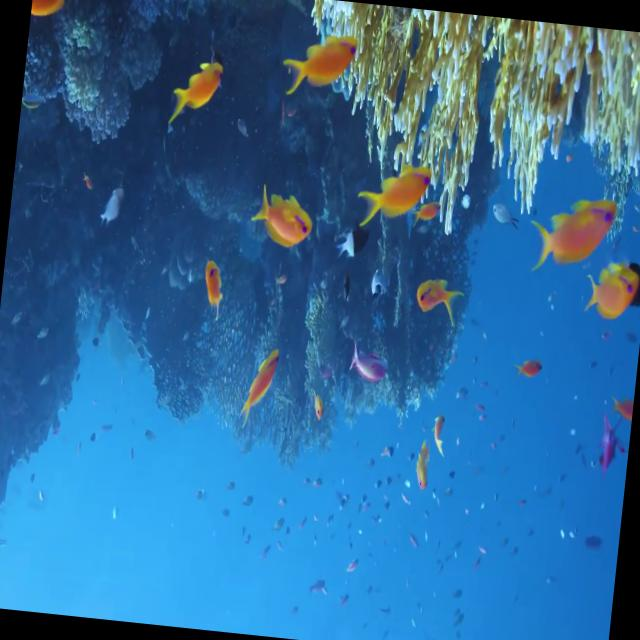fish: (524, 188, 616, 278), (282, 29, 356, 97), (251, 192, 315, 250), (236, 344, 278, 431), (170, 54, 226, 119), (584, 259, 640, 322), (414, 277, 464, 325), (348, 344, 392, 386), (30, 0, 77, 20)
